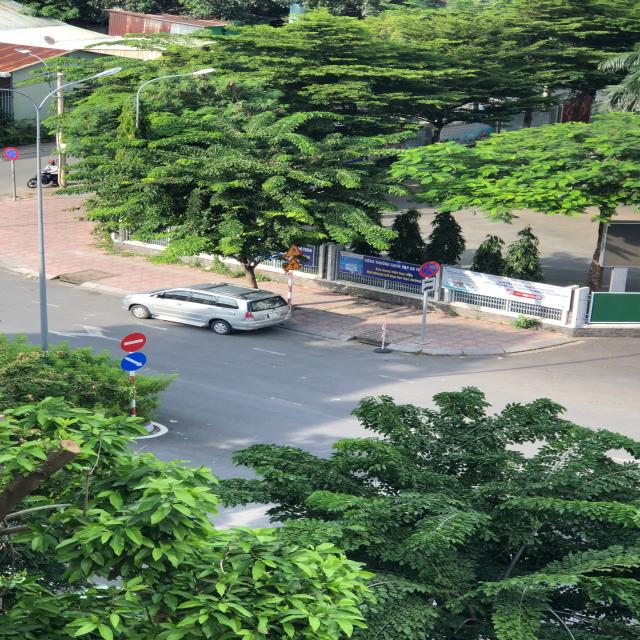Bien bao cam di nguoc chieu: (119, 329, 152, 353)
Bien bao duong giao nhau: (283, 256, 304, 272)
Bien bao duong nguoi di bo cat ngang: (283, 243, 304, 257)
Bien bao huong phai di vong chuong ngai vat: (118, 351, 150, 372)
